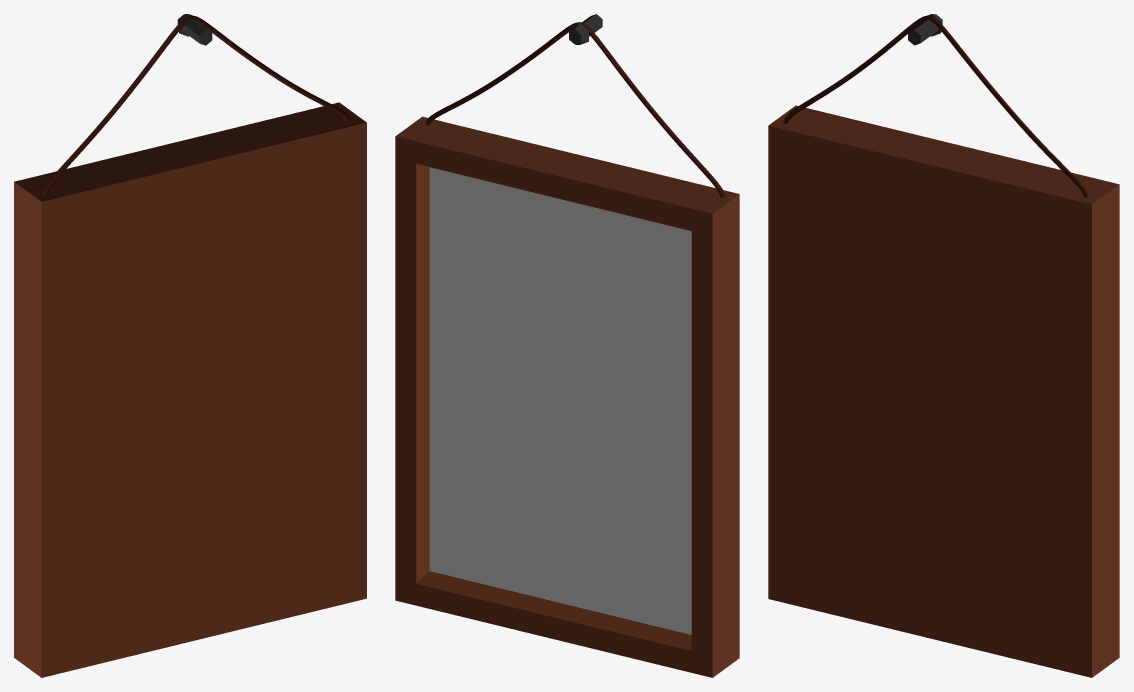
Rendered from Picture Frame 1.fbx.
3 renders of one model, left to right at view 1: azimuth 30°, elevation 25°; view 2: azimuth 150°, elevation 25°; view 3: azimuth 330°, elevation 25°, orthographic. The views are drawn at different scales.
Visible parts, largest first — view 1: Picture Frame 1; view 2: Picture Frame 1; view 3: Picture Frame 1.
Part boxes in pixels (left/top/right/bottom): Picture Frame 1: left=14, top=14, right=366, bottom=677; Picture Frame 1: left=395, top=14, right=739, bottom=677; Picture Frame 1: left=768, top=14, right=1119, bottom=677.
Size of the model in its own units: 0.1246 by 1.17 by 0.6422.
